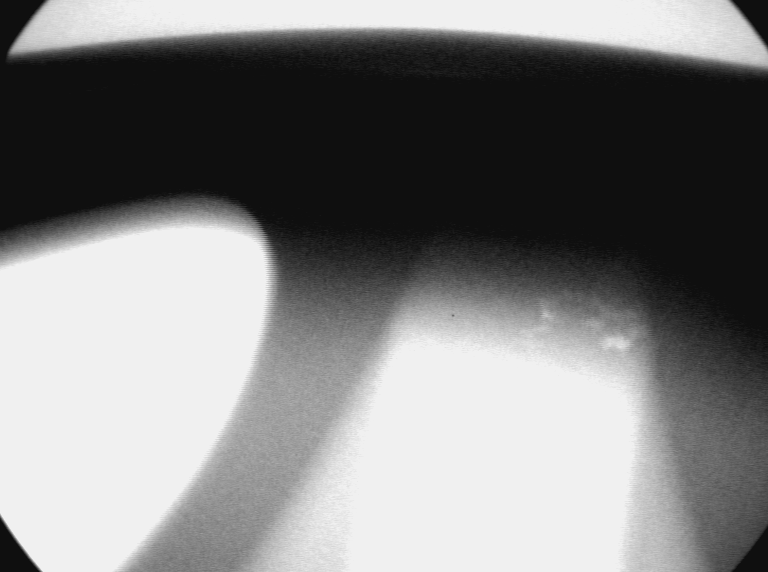defect: (504, 271, 659, 367)
